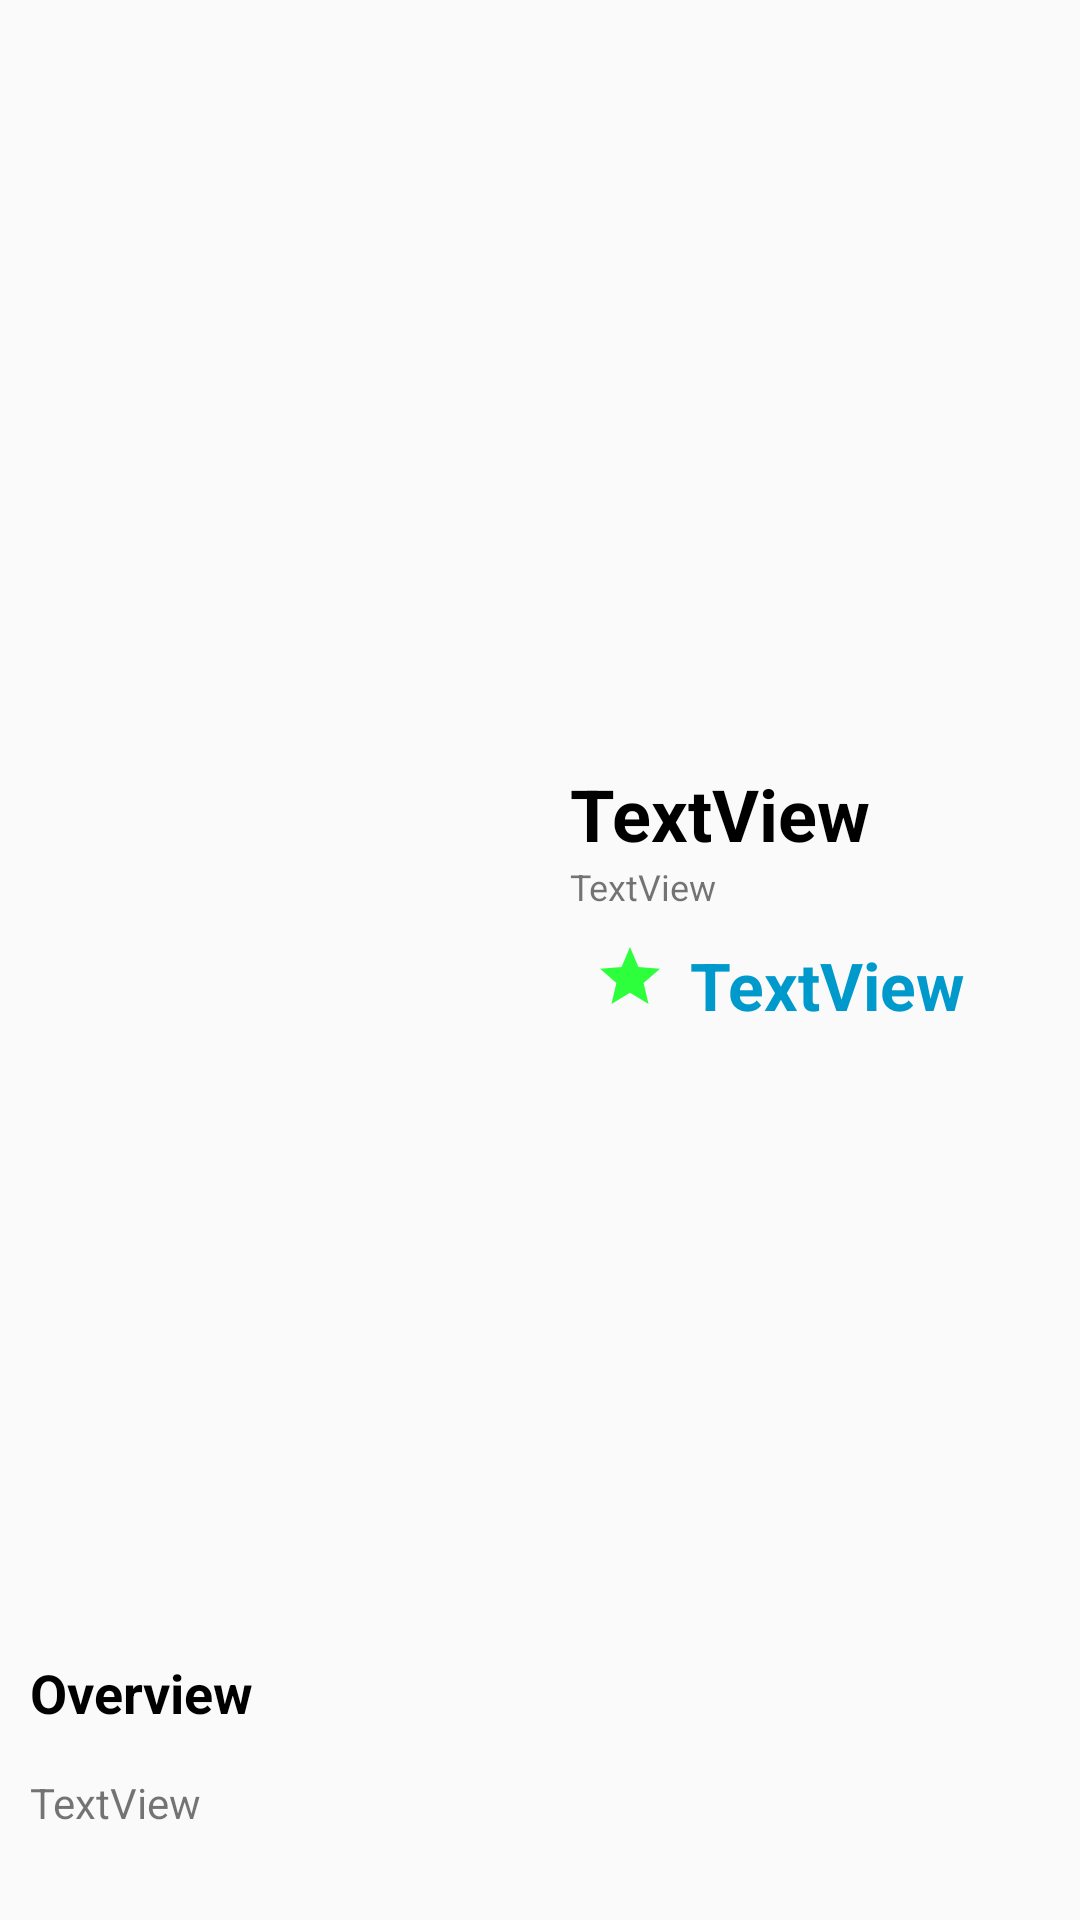

Icons on this 1080×1920 Android screen, each with its box as (x1, y1, x2, y2):
star: (600, 947, 660, 1004)
